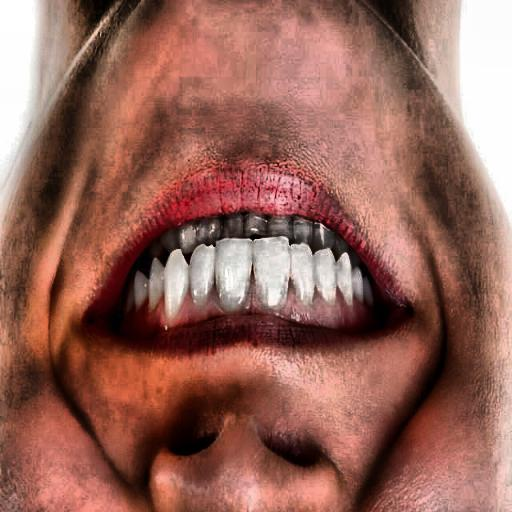Healthy: (92, 141, 383, 361)
